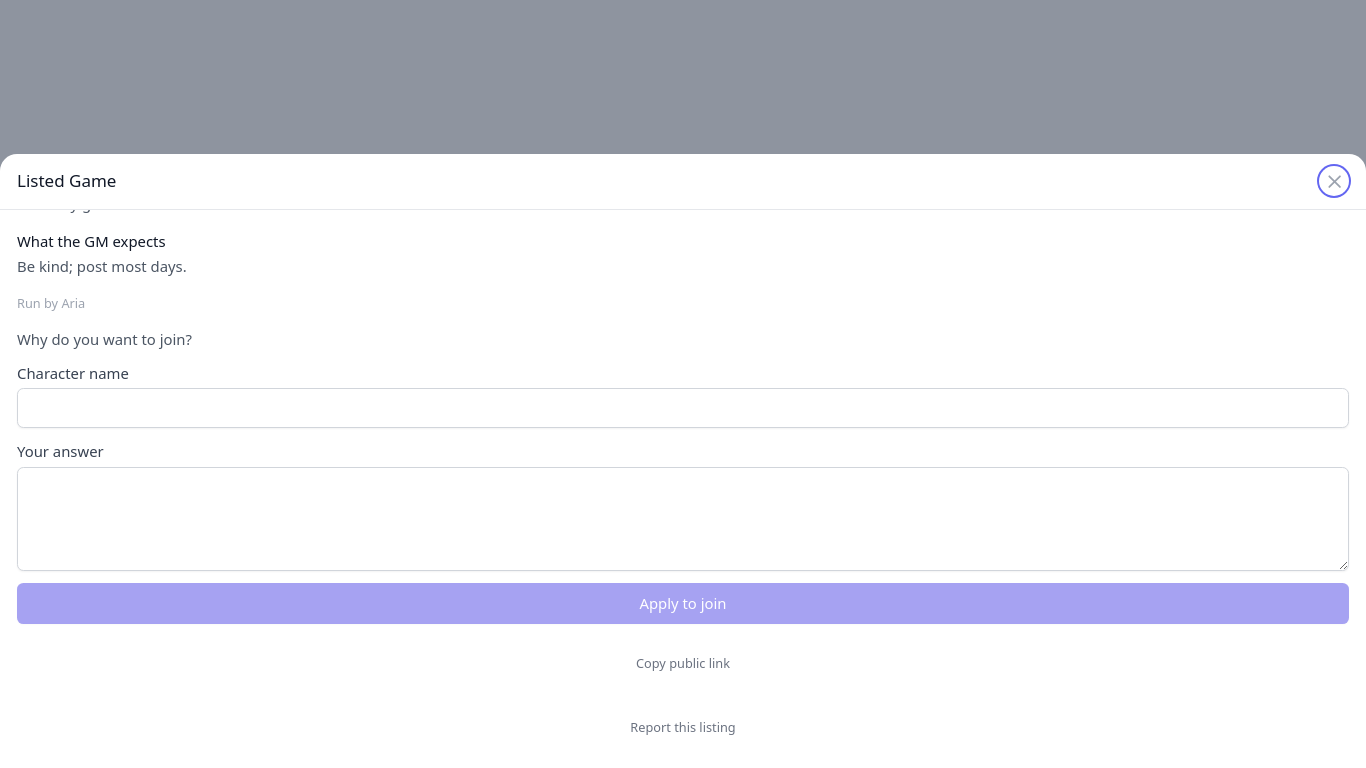
Test: PublicChannelDetailSheet › report a listing (#674) › offers reporting to a non-member and submits the reason
The image size is (1366, 768).
(page scrolled)
Click the button "Report this listing" at (683,728), box x1=17 y1=704 x2=1349 y2=751
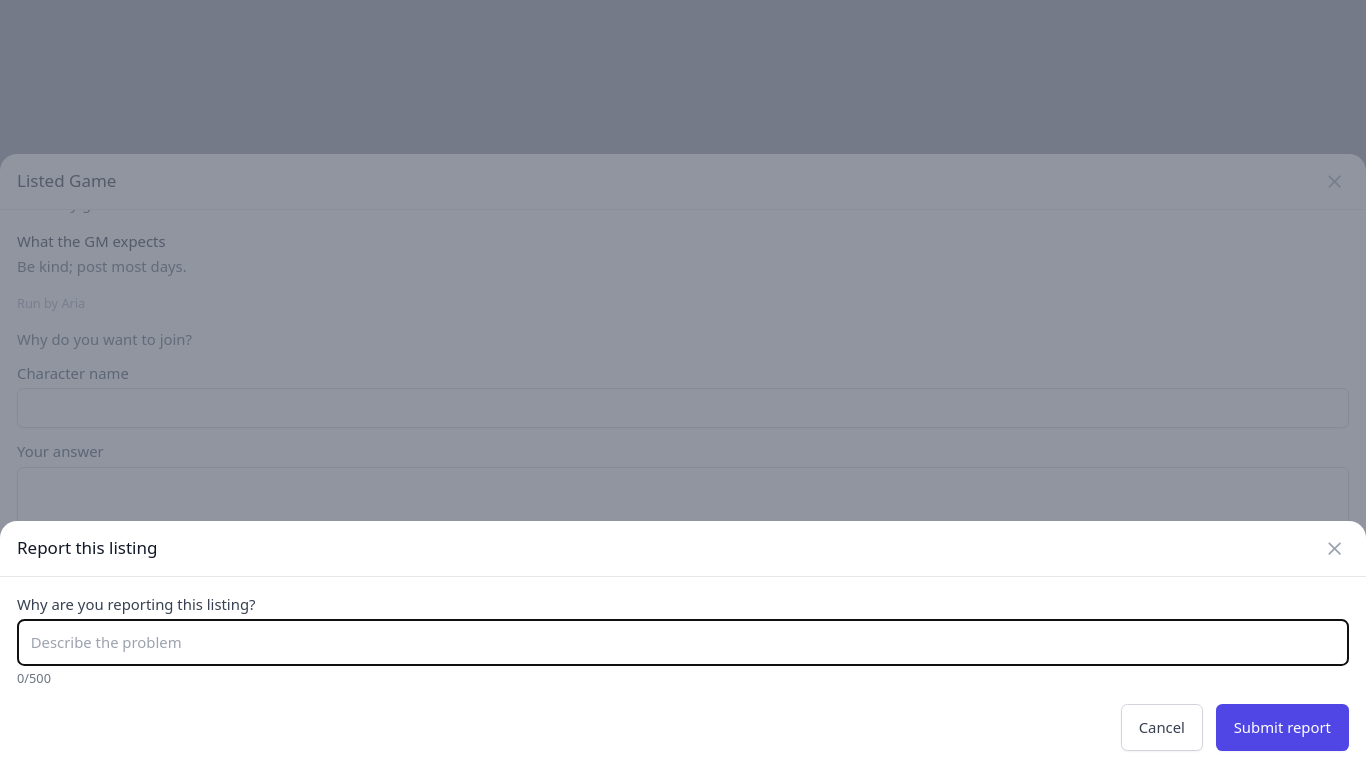
Type "Recruiting for a paid game" into the field labelled "Why are you reporting this listing?" at (683,643), box x1=17 y1=619 x2=1349 y2=666
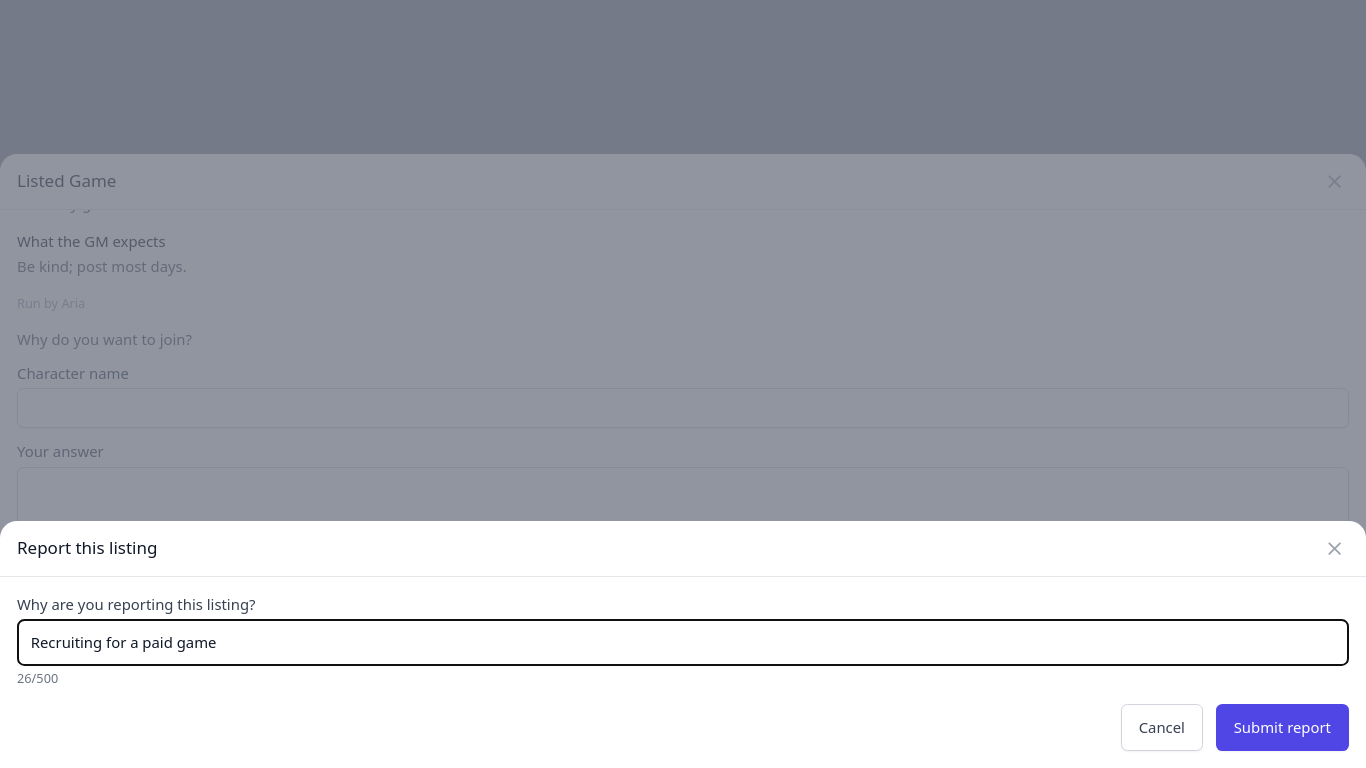
Click the button "Submit report" at (1282,728), box x1=1216 y1=704 x2=1349 y2=751
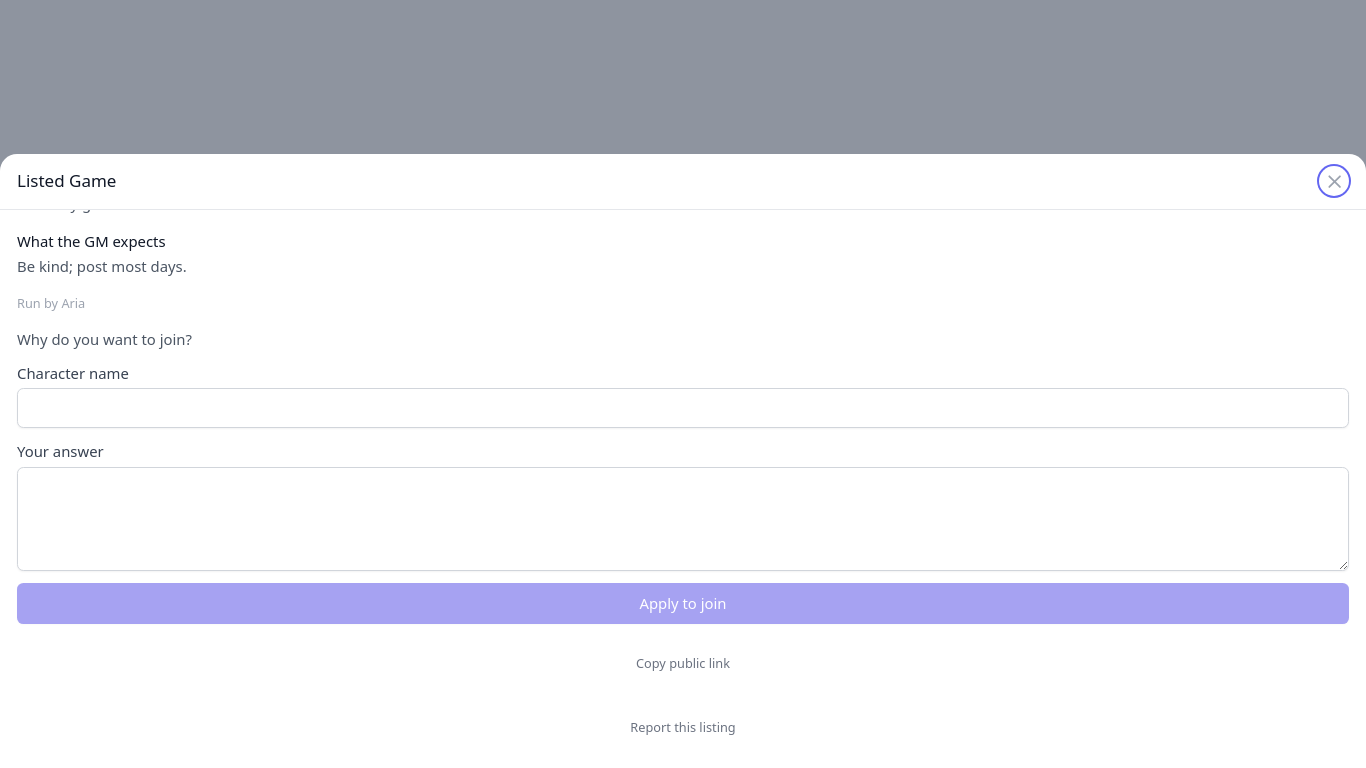
Expected: the label labelled "Why are you reporting this listing?" is gone
